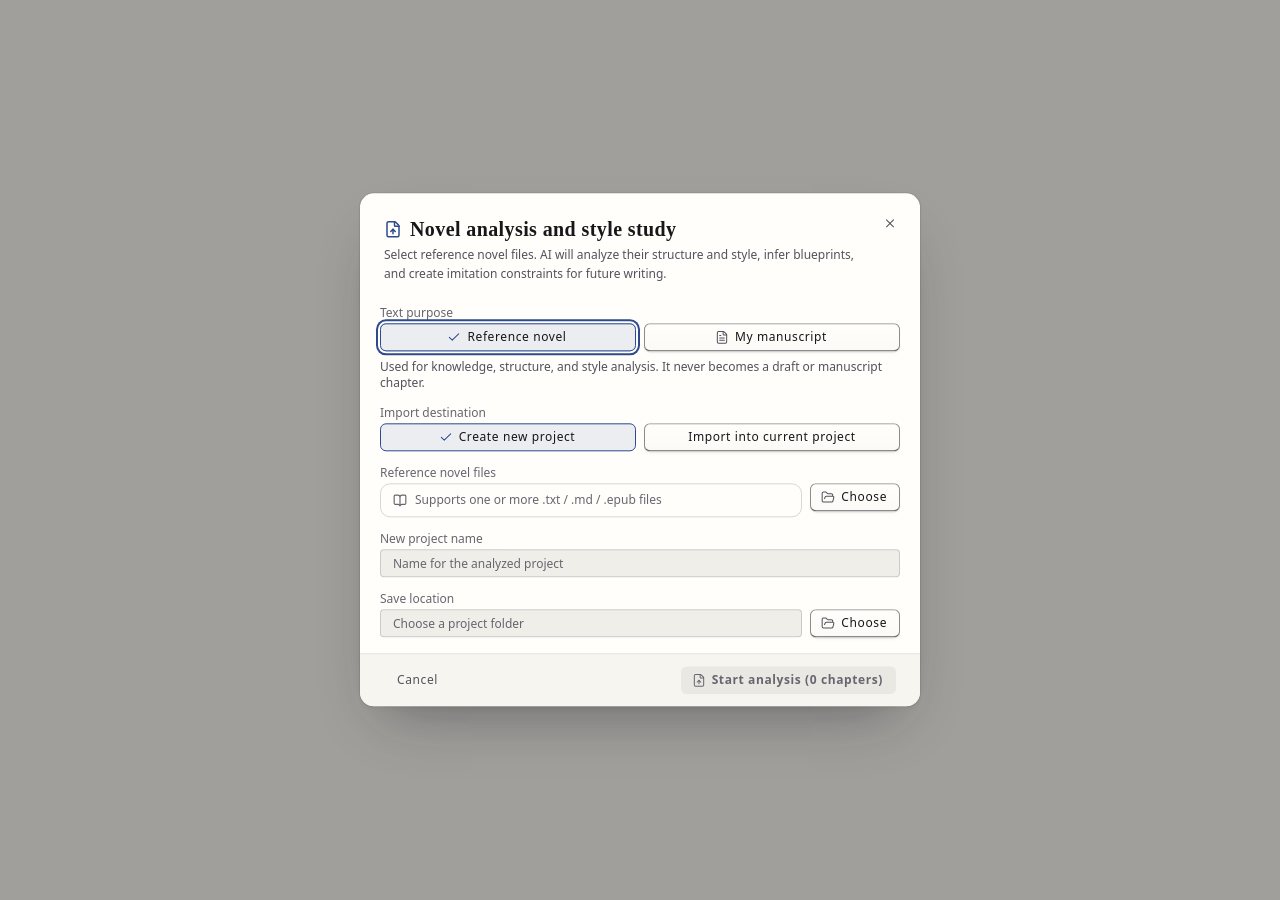
Test: current-project reference import › shows the resumable run failure in the en-US UI language (#484)
The image size is (1280, 900).
Click the button with test id "import-target-current": (772, 438) [644,424,900,452]
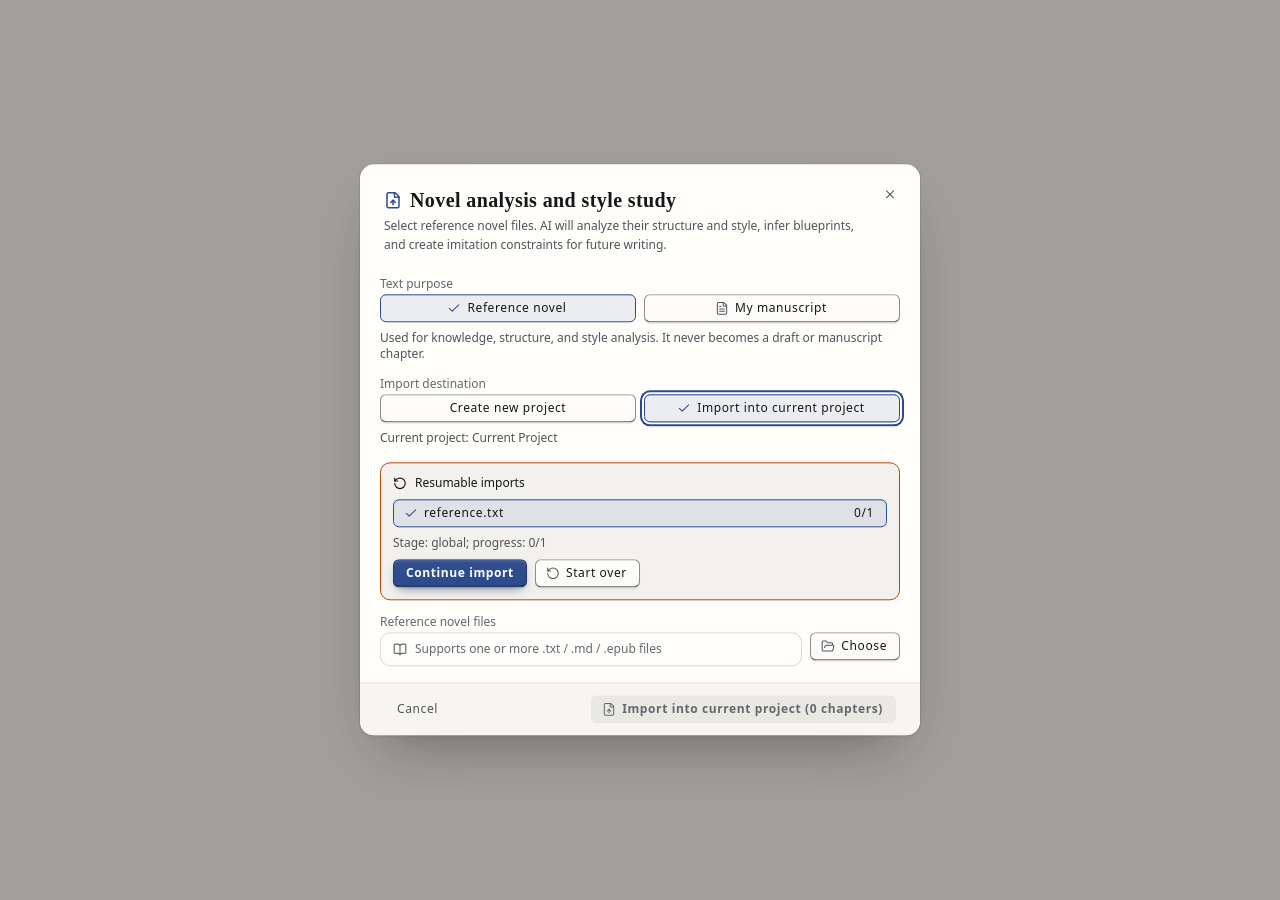
Now the element with test id "import-resumable-run" shows "Stage: global; progress: 0/1", box [393,535,547,552]
